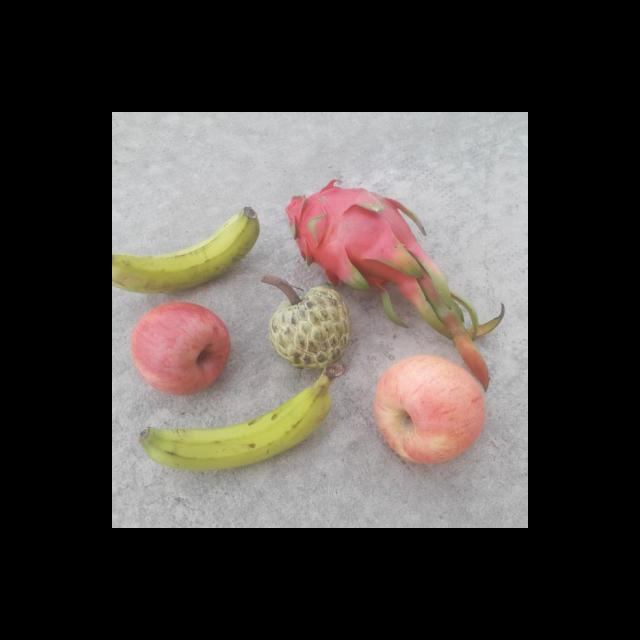Sakya fruit: (272, 284, 354, 372)
apple: (374, 356, 488, 464), (131, 300, 235, 396)
banana: (135, 377, 345, 474), (112, 202, 260, 296)
pitaya: (277, 181, 405, 282)
